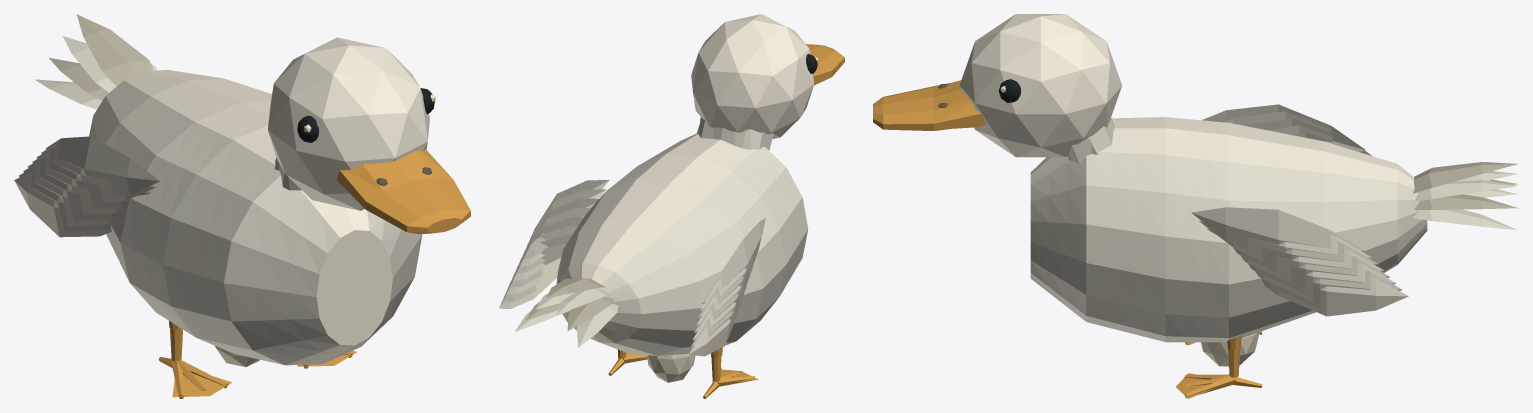
Rendered from duck.glb.
3 renders of one model, left to right at view 1: azimuth 30°, elevation 25°; view 2: azimuth 150°, elevation 25°; view 3: azimuth 270°, elevation 25°, orthographic. The views are drawn at different scales.
Visible parts, largest first — view 1: Body_mesh, Head_mesh, Wing_mesh, Tail_mesh, Foot_mesh, Eye_mesh, Egg_mesh; view 2: Body_mesh, Head_mesh, Wing.001_mesh, Wing_mesh, Tail_mesh, Egg_mesh, Foot_mesh, Foot.001_mesh; view 3: Body_mesh, Head_mesh, Wing.001_mesh, Tail_mesh, Wing_mesh, Foot.001_mesh, Egg_mesh.
Boxes of the visible parts, x1=… form: Body_mesh: x1=89, y1=70, x2=422, y2=365; Head_mesh: x1=268, y1=37, x2=470, y2=234; Wing_mesh: x1=14, y1=136, x2=160, y2=237; Tail_mesh: x1=34, y1=14, x2=156, y2=109; Foot_mesh: x1=159, y1=357, x2=232, y2=398; Eye_mesh: x1=297, y1=115, x2=318, y2=142; Egg_mesh: x1=214, y1=345, x2=259, y2=366; Body_mesh: x1=556, y1=133, x2=808, y2=355; Head_mesh: x1=691, y1=14, x2=844, y2=150; Wing.001_mesh: x1=499, y1=179, x2=609, y2=308; Wing_mesh: x1=688, y1=218, x2=765, y2=356; Tail_mesh: x1=515, y1=278, x2=618, y2=347; Egg_mesh: x1=647, y1=353, x2=695, y2=382; Foot_mesh: x1=703, y1=368, x2=758, y2=398; Foot.001_mesh: x1=608, y1=352, x2=647, y2=375; Body_mesh: x1=1030, y1=117, x2=1427, y2=342; Head_mesh: x1=873, y1=14, x2=1122, y2=163; Wing.001_mesh: x1=1191, y1=207, x2=1408, y2=316; Tail_mesh: x1=1412, y1=162, x2=1518, y2=230; Wing_mesh: x1=1202, y1=104, x2=1371, y2=155; Foot.001_mesh: x1=1176, y1=373, x2=1262, y2=398; Egg_mesh: x1=1201, y1=332, x2=1259, y2=366.
Bounding box in the file's own units: 0.528 × 0.76 × 1.27.
